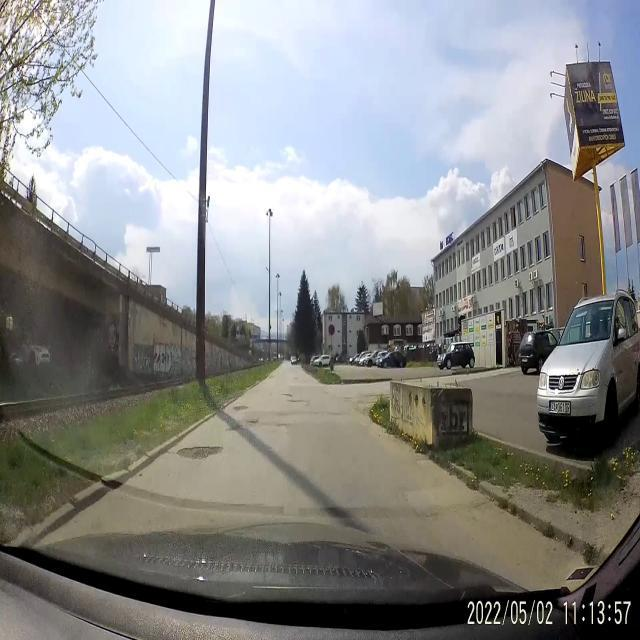Pothole: (175, 444, 223, 464), (286, 398, 310, 412), (232, 400, 250, 415), (226, 421, 244, 435), (272, 421, 295, 431), (248, 416, 260, 430), (280, 390, 294, 398), (293, 377, 300, 382)
